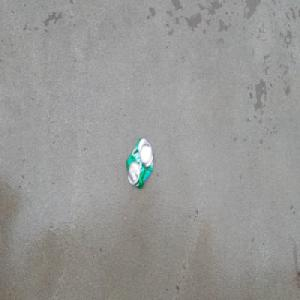SodaCan: (125, 136, 154, 190)
